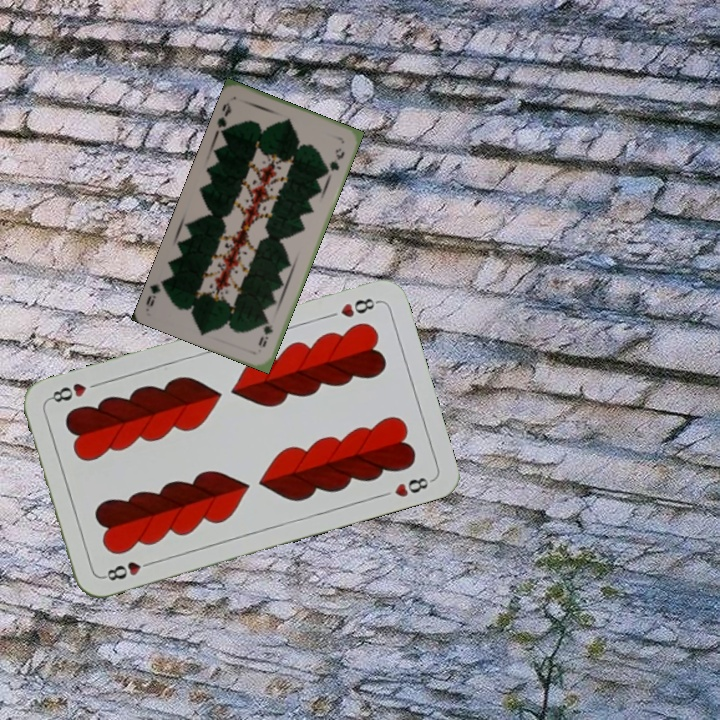G9: (213, 98, 234, 135), (254, 315, 276, 350)
H8: (99, 556, 157, 584), (336, 294, 382, 320)
